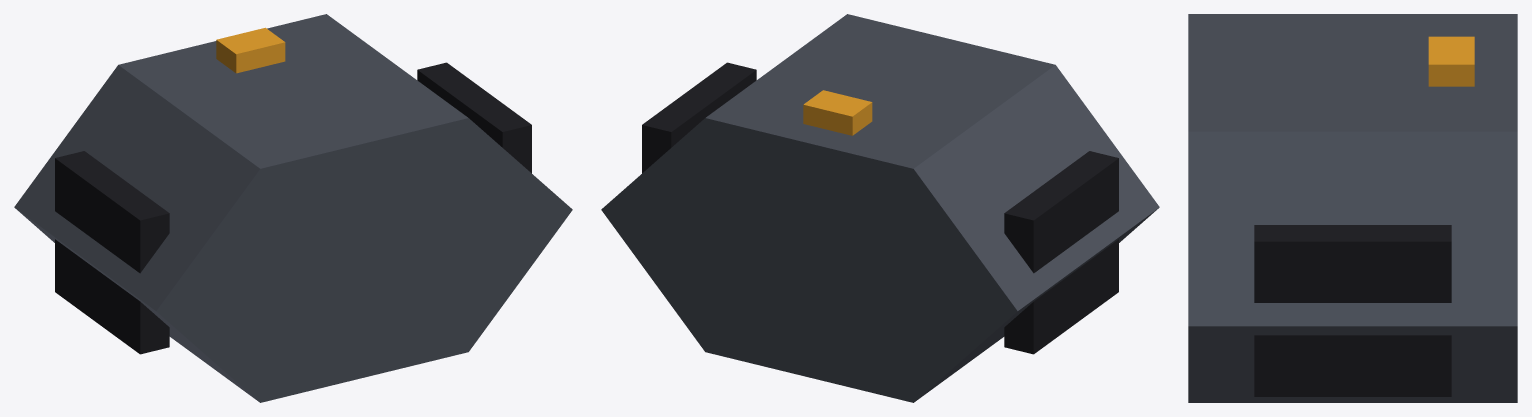
The model's file is ship_reaction_wheel.obj.
3 views of the same model, side by side, from view 1: azimuth 30°, elevation 25°; view 2: azimuth 150°, elevation 25°; view 3: azimuth 270°, elevation 25° (orthographic). The views are drawn at different scales.
Parts seen in each view (by area): view 1: case, window, status; view 2: case, window, status; view 3: case, window, status.
Boxes of the visible parts, <box> form: case: <box>14,14,572,402</box>; window: <box>55,62,531,354</box>; status: <box>216,27,285,73</box>; case: <box>601,14,1159,402</box>; window: <box>642,62,1118,354</box>; status: <box>803,90,872,135</box>; case: <box>1188,14,1517,402</box>; window: <box>1254,225,1451,396</box>; status: <box>1428,36,1474,86</box>.
Size of the model in its own units: 1.69 by 0.9836 by 1.
